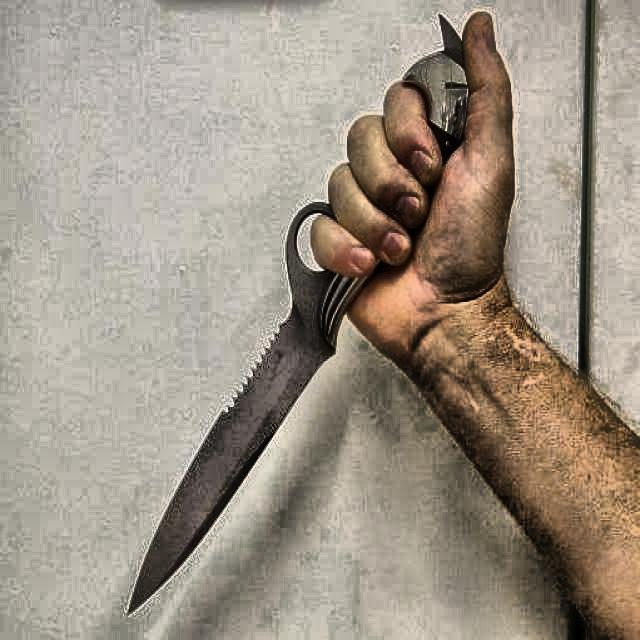knife: (129, 15, 471, 612)
